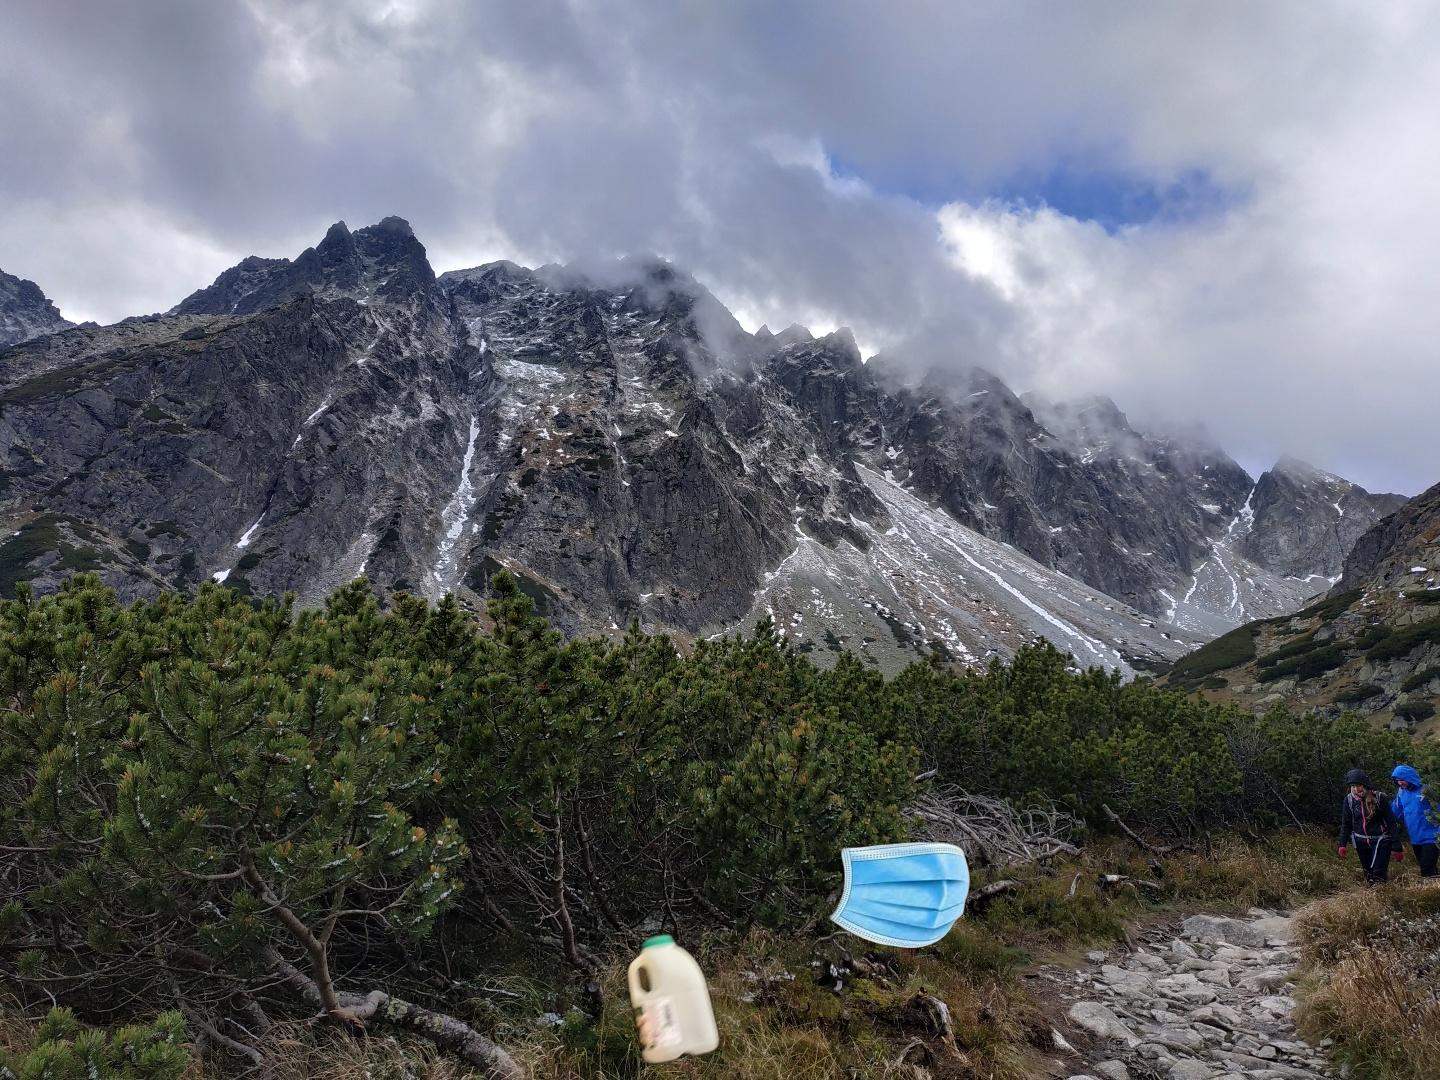plastic-bottles: (622, 927, 725, 1070)
trash: (787, 838, 972, 951)
